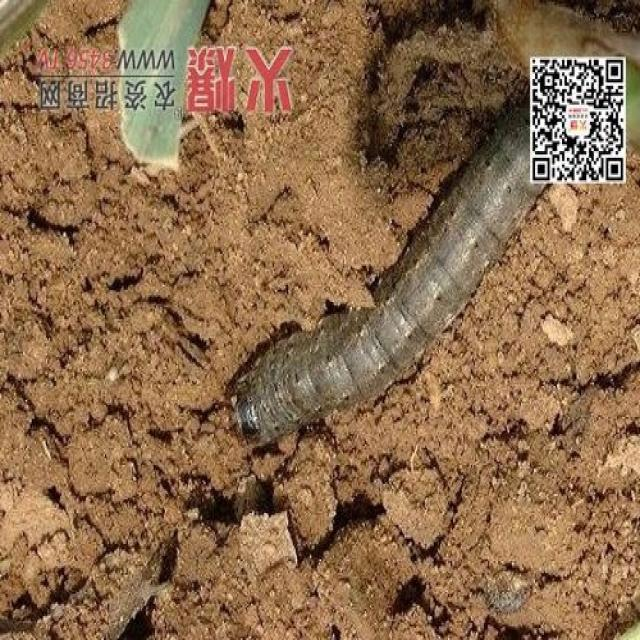black cutworm: (219, 150, 521, 453)
